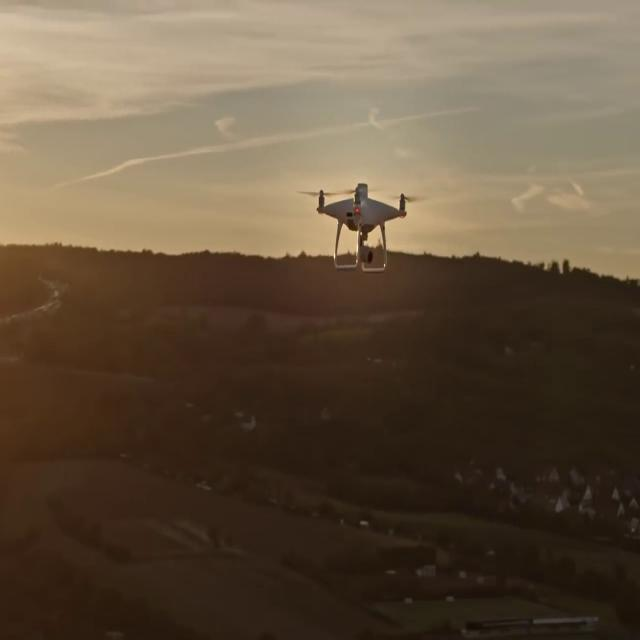drone: (299, 179, 431, 273)
